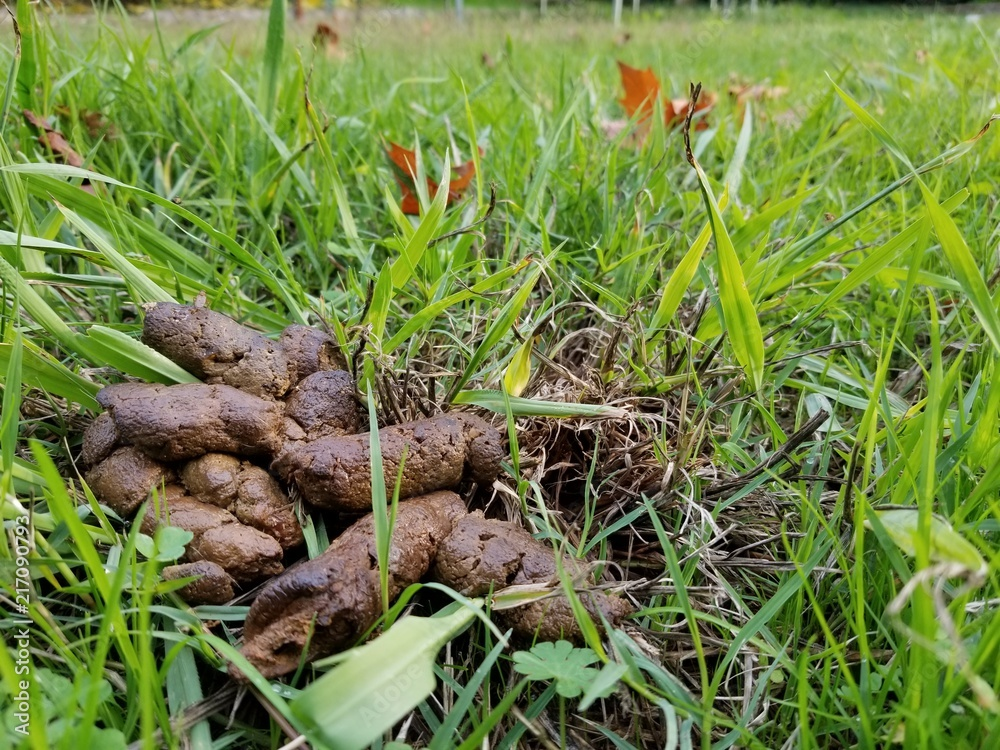Dog: (138, 306, 582, 648)
